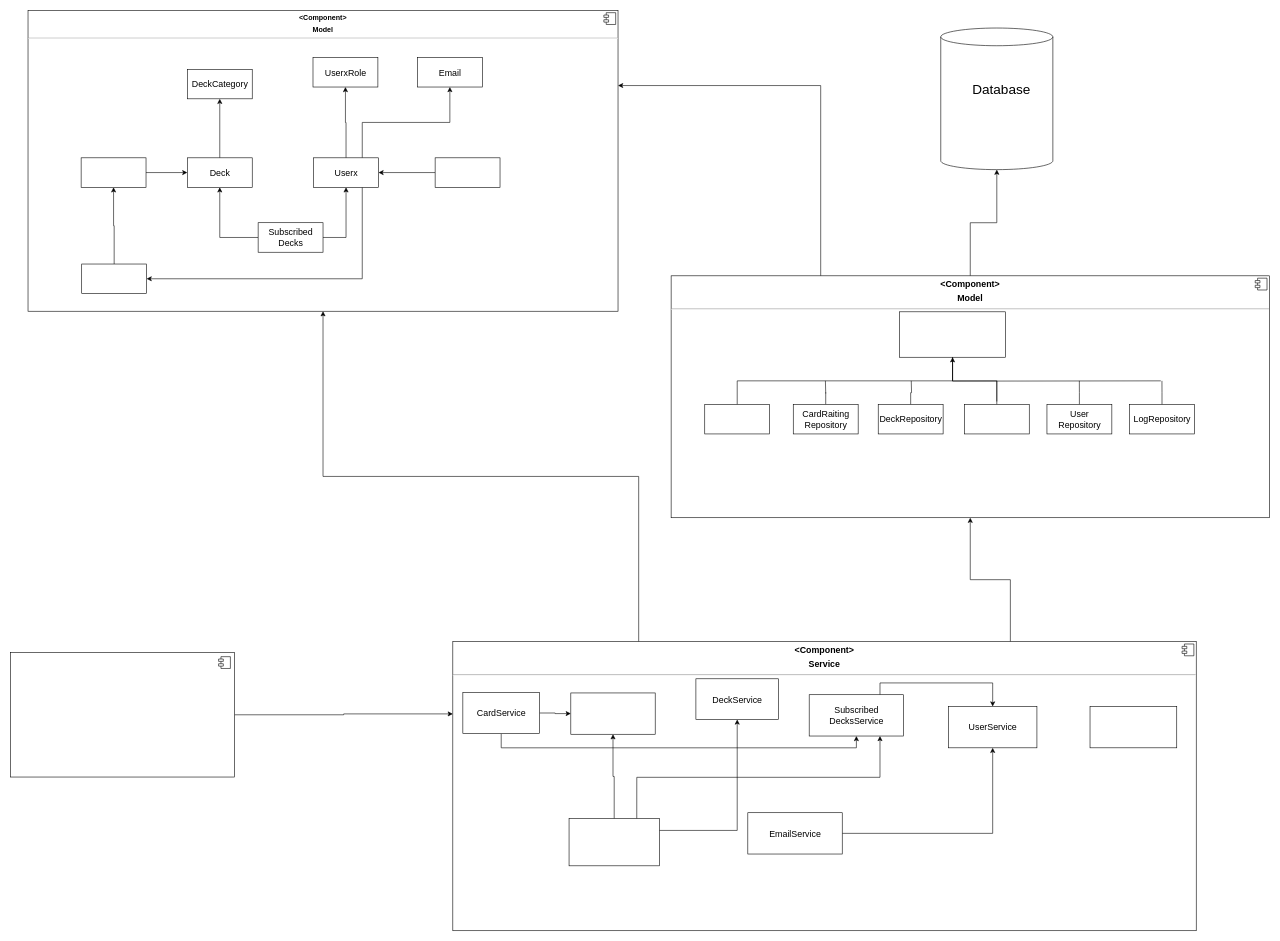
This 1280x941 diagram has some shape labels left out. The box of each missing label's shape, as (x1, y1, x2, y2) in pixels:
Card: (81, 157, 146, 187)
CardRaiting: (81, 263, 147, 294)
CardRaitingService: (570, 692, 655, 734)
CardRepository: (704, 404, 770, 434)
LearnAlgorithm: (568, 818, 659, 866)
Log: (435, 157, 500, 187)
LogService: (1089, 706, 1177, 748)
SubscribedDecks Repository: (964, 404, 1029, 434)
«Abstract» AbstractRepository: (899, 311, 1006, 357)
«Component» Controller: (10, 652, 235, 777)
